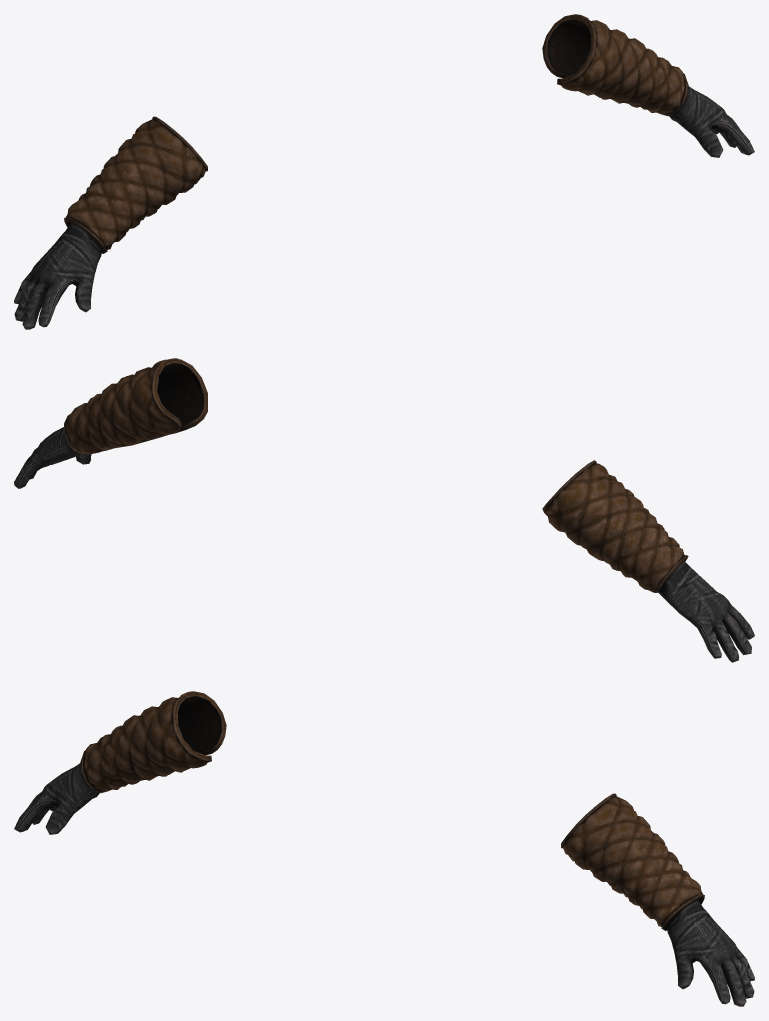
Rendered from lrd_marines_gondor_3_gloves.fbx.
3 views of the same model, one above another, from view 1: azimuth 30°, elevation 25°; view 2: azimuth 150°, elevation 25°; view 3: azimuth 330°, elevation 25° (orthographic).
Visible parts, largest first — view 1: lrd_marines_gondor_3_gloves; view 2: lrd_marines_gondor_3_gloves; view 3: lrd_marines_gondor_3_gloves.
Part boxes in pixels (left/top/right/bottom): lrd_marines_gondor_3_gloves: left=14, top=14, right=754, bottom=329; lrd_marines_gondor_3_gloves: left=14, top=358, right=754, bottom=662; lrd_marines_gondor_3_gloves: left=14, top=691, right=754, bottom=1006.
Bounding box in the file's own units: 1.61 × 0.1948 × 0.3461.
1 material, 1 textured.
